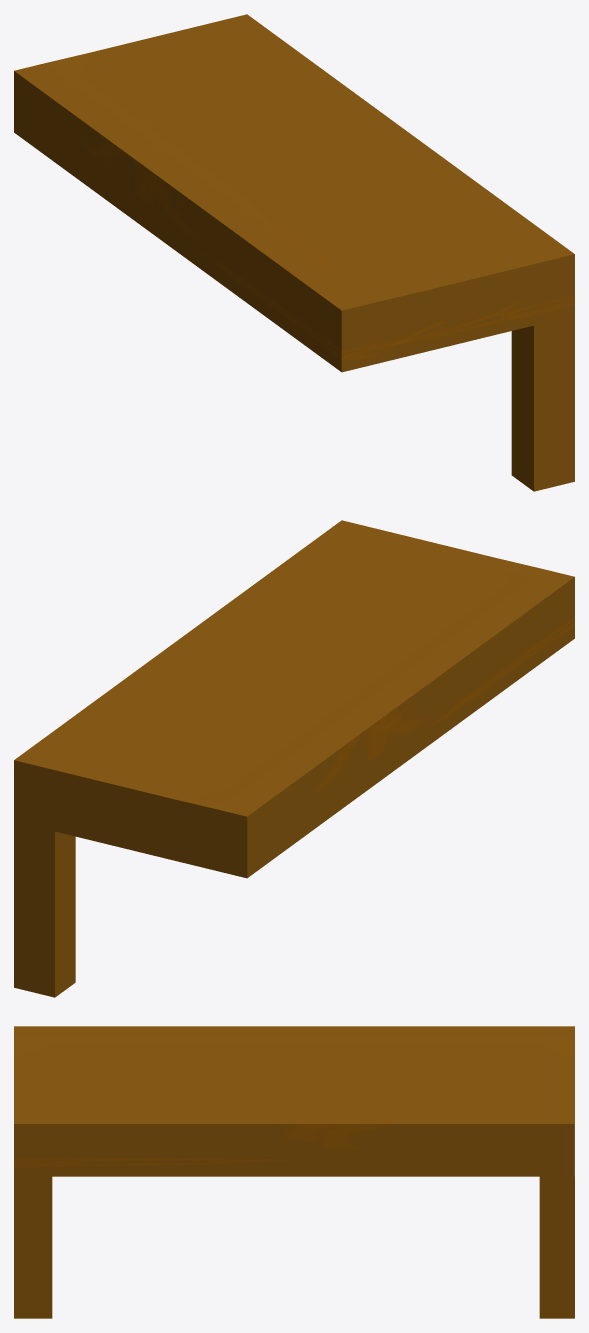
File: P_Table1.fbx
3 views of the same model, one above another, from view 1: azimuth 30°, elevation 25°; view 2: azimuth 150°, elevation 25°; view 3: azimuth 270°, elevation 25° (orthographic). The views are drawn at different scales.
Visible parts, largest first — view 1: P_Table1; view 2: P_Table1; view 3: P_Table1.
Boxes of the visible parts, x1=… form: P_Table1: x1=14, y1=14, x2=574, y2=491; P_Table1: x1=14, y1=520, x2=574, y2=997; P_Table1: x1=14, y1=1026, x2=574, y2=1318.
Size of the model in its own units: 0.7956 by 0.7429 by 1.94.
Materials: 1 (1 with a texture image).
